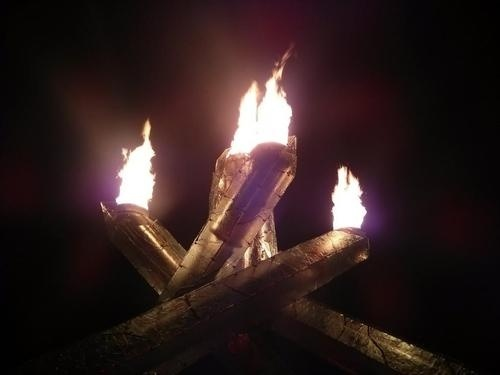fire: (223, 46, 295, 157), (112, 117, 160, 210), (327, 161, 368, 231)
